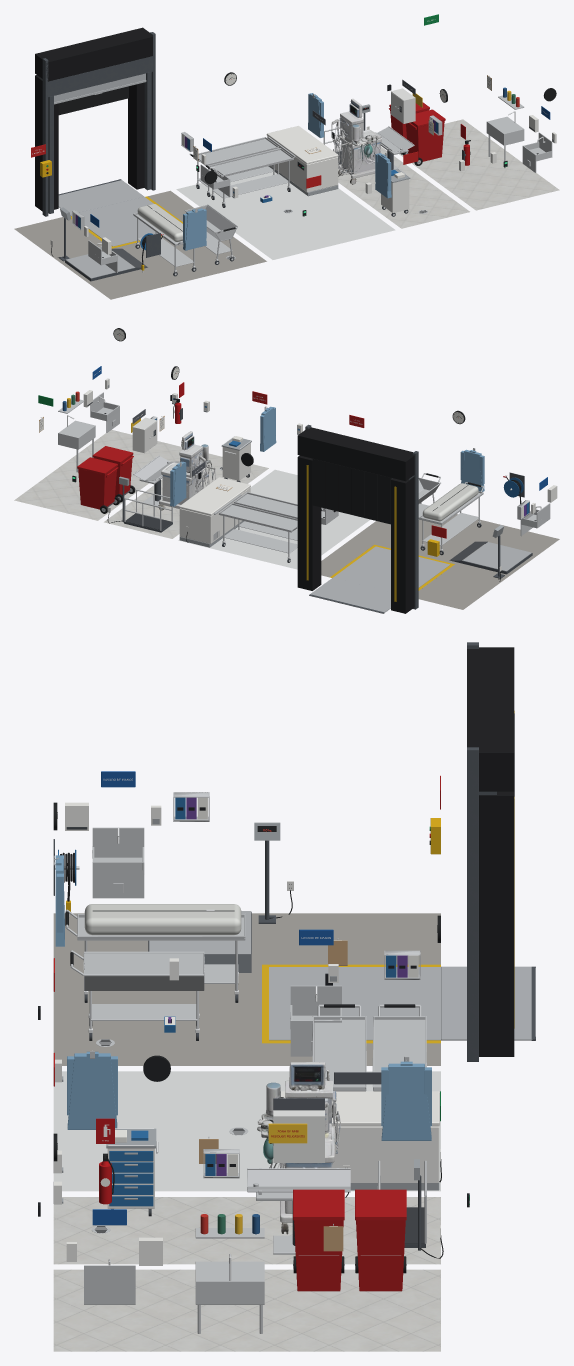
File: 03_n1_cadena_de_modelos_biologicos.glb
The picture shows the model from 3 angles, top to bottom: view 1: azimuth 30°, elevation 25°; view 2: azimuth 150°, elevation 25°; view 3: azimuth 270°, elevation 25°; orthographic projection. The views are drawn at different scales.
Visible parts, largest first — view 1: sello_muelle, piso · Preparación de cadáveres · auxiliar forense · congela, piso · Andén de recepción de modelos, piso · RPBI y residuos biológicos, rampa_niveladora, cortina_enrollable, camilla_modelos (×2), piso · Recepción e inducción anestésica de cerdos, A_v19_maquina_anestesia, bata_colgada (×3), congelador_cuerpo, lavabo_acero (×2) (+12 smaller); view 2: sello_muelle, piso · Andén de recepción de modelos, piso · RPBI y residuos biológicos, rampa_niveladora, piso · Preparación de cadáveres · auxiliar forense · congela, camilla_modelos (×2), contenedor_rpbi (×2), bata_colgada (×3), piso · Recepción e inducción anestésica de cerdos, bascula_plataforma, A_v19_maquina_anestesia, lavabo_acero (×2) (+11 smaller); view 3: piso · RPBI y residuos biológicos, piso · Andén de recepción de modelos, sello_muelle, piso · Preparación de cadáveres · auxiliar forense · congela, piso · Recepción e inducción anestésica de cerdos, rampa_niveladora, contenedor_rpbi (×2), bata_colgada (×3), lavabo_acero (×2), carro_canal_cerdo, camilla_modelos (×2), congelador_cuerpo (+13 smaller).
Part boxes in pixels (x1,y1,x2,y2): sello_muelle: [35, 27, 155, 216]; piso · Preparación de cadáveres · auxiliar forense · congela: [176, 172, 395, 259]; piso · Andén de recepción de modelos: [14, 190, 266, 299]; piso · RPBI y residuos biológicos: [399, 119, 559, 210]; rampa_niveladora: [40, 160, 182, 248]; cortina_enrollable: [40, 56, 152, 213]; camilla_modelos (×2): [189, 137, 293, 207]; piso · Recepción e inducción anestésica de cerdos: [334, 146, 469, 228]; A_v19_maquina_anestesia: [331, 98, 381, 184]; bata_colgada (×3): [183, 93, 391, 250]; congelador_cuerpo: [267, 136, 338, 196]; lavabo_acero (×2): [84, 115, 556, 272]; sello_muelle: [297, 424, 418, 613]; piso · Andén de recepción de modelos: [321, 514, 559, 609]; piso · RPBI y residuos biológicos: [14, 430, 182, 520]; rampa_niveladora: [309, 539, 454, 613]; piso · Preparación de cadáveres · auxiliar forense · congela: [178, 469, 370, 569]; camilla_modelos (×2): [218, 492, 323, 562]; contenedor_rpbi (×2): [77, 446, 135, 513]; bata_colgada (×3): [170, 406, 484, 506]; piso · Recepción e inducción anestésica de cerdos: [104, 453, 268, 538]; bascula_plataforma: [449, 525, 532, 578]; A_v19_maquina_anestesia: [158, 431, 215, 510]; lavabo_acero (×2): [83, 378, 557, 536]; piso · RPBI y residuos biológicos: [53, 1269, 440, 1351]; piso · Andén de recepción de modelos: [53, 913, 440, 1065]; sello_muelle: [467, 642, 514, 1061]; piso · Preparación de cadáveres · auxiliar forense · congela: [53, 1071, 440, 1191]; piso · Recepción e inducción anestésica de cerdos: [53, 1197, 440, 1264]; rampa_niveladora: [262, 818, 535, 1043]; contenedor_rpbi (×2): [293, 1189, 406, 1291]; bata_colgada (×3): [53, 855, 431, 1140]; lavabo_acero (×2): [65, 802, 162, 1304]; carro_canal_cerdo: [70, 950, 204, 1040]; camilla_modelos (×2): [312, 1004, 426, 1091]; congelador_cuerpo: [332, 1126, 439, 1190].
Bounding box in the file's own units: 12.06 × 4 × 5.79.
Materials: 47 (3 with a texture image).
